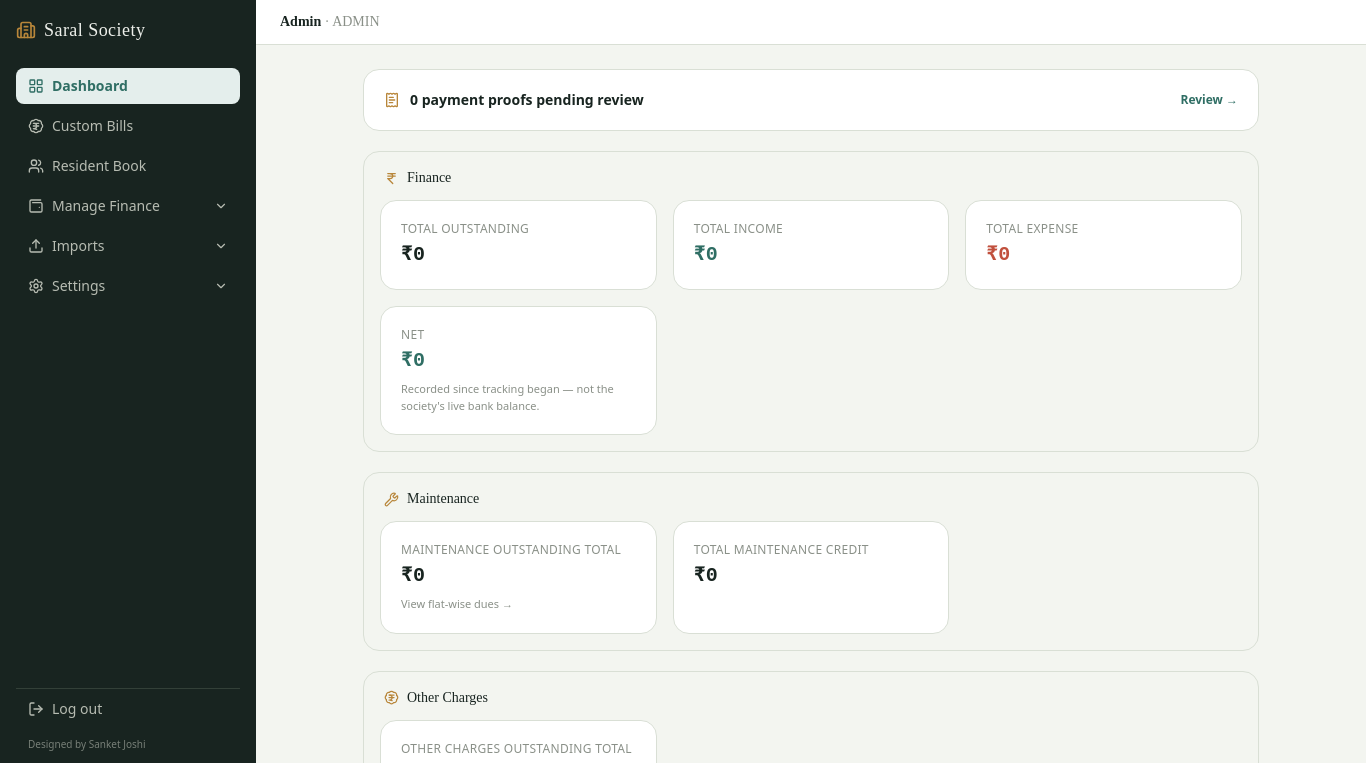
Test: DashboardLayout › expands the Manage Finance submenu on click, revealing Record, Mark Paid, and Receipt Book as real top-level URLs
Click the button "Manage Finance" at (128, 206), box [16,188,240,224]
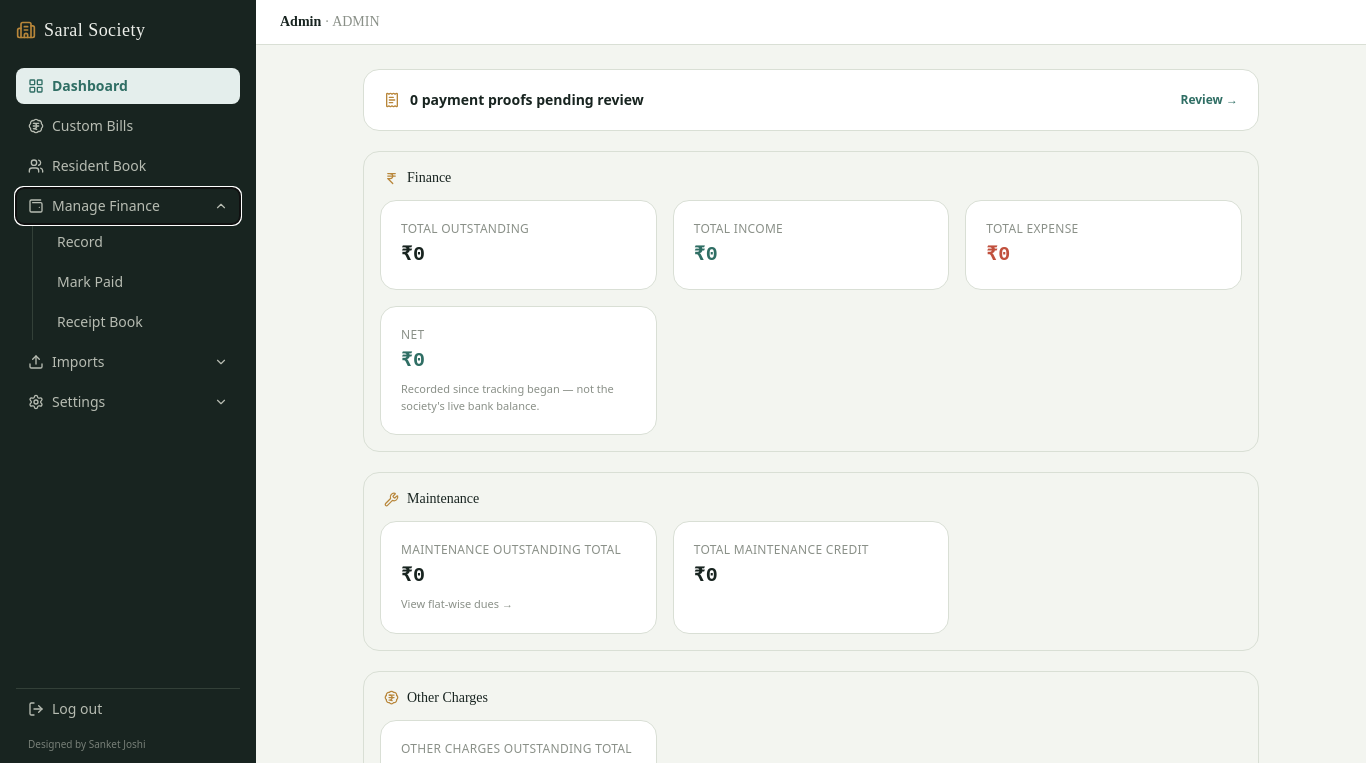
Toggling again collapses it.
Click the button "Manage Finance" at (128, 206), box [16,188,240,224]
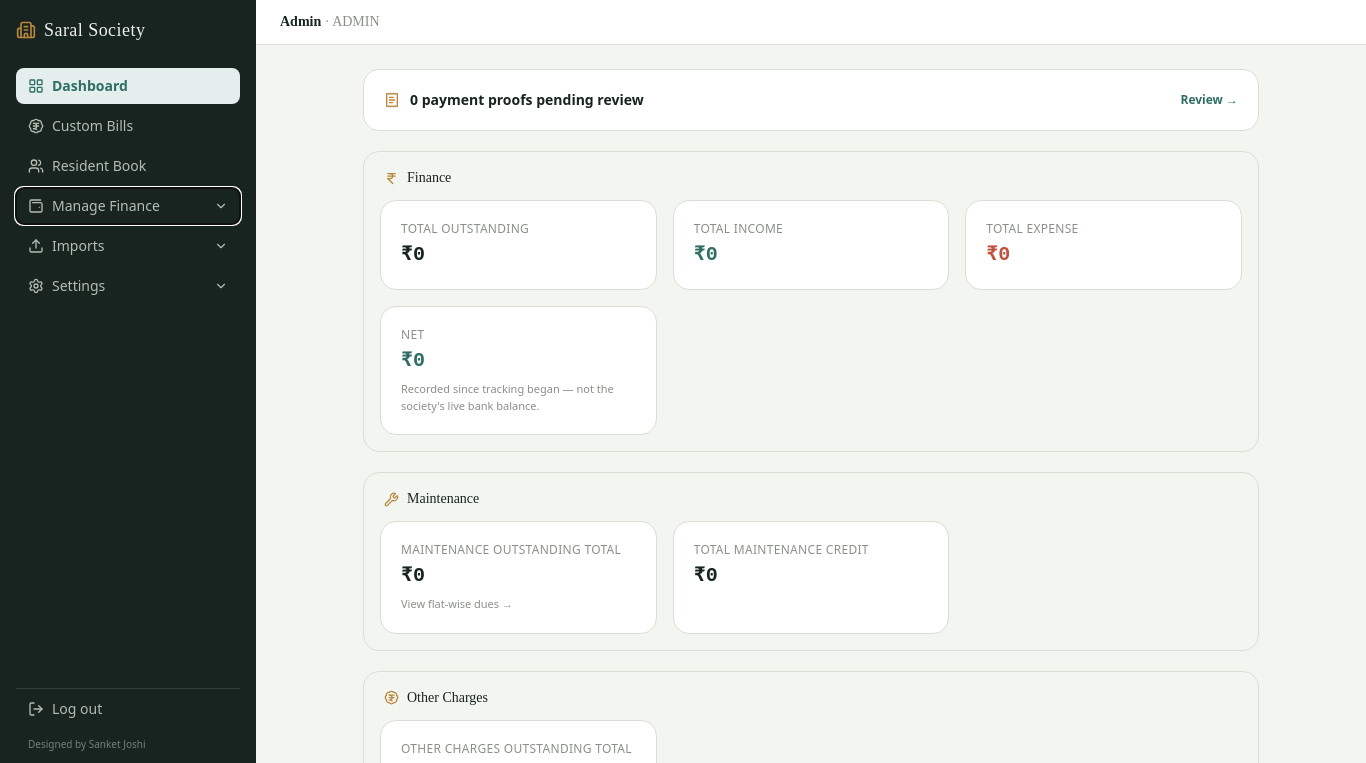
Now the link "Mark Paid" is gone
